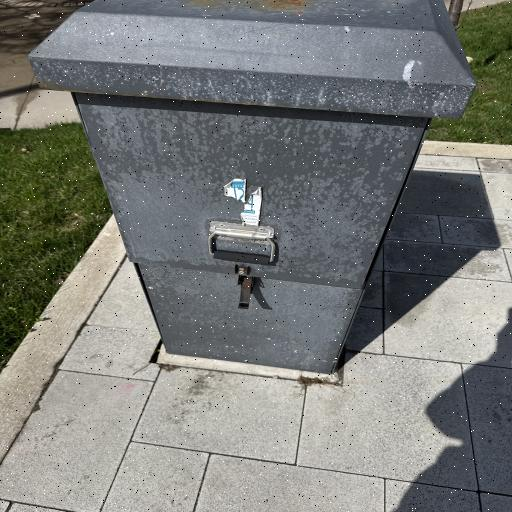Electrical Box: (25, 4, 477, 374)
